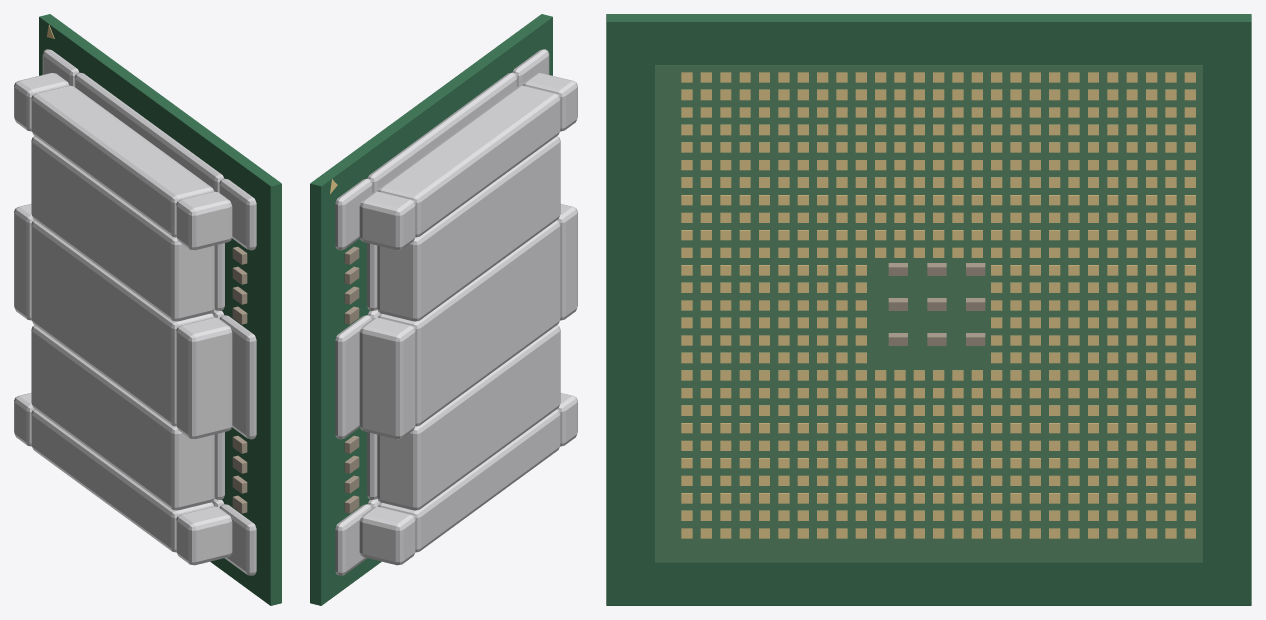
The model's file is CPU_AM5.glb.
3 renders of one model, left to right at view 1: azimuth 30°, elevation 25°; view 2: azimuth 150°, elevation 25°; view 3: azimuth 270°, elevation 25°, orthographic. The views are drawn at different scales.
Visible parts, largest first — view 1: CPU_AM5_IHS, CPU_AM5_Substrate; view 2: CPU_AM5_IHS, CPU_AM5_Substrate; view 3: CPU_AM5_Pads, CPU_AM5_Substrate.
Boxes of the visible parts, x1,y1,x2,y2 form: CPU_AM5_IHS: [14, 49, 256, 575]; CPU_AM5_Substrate: [39, 14, 281, 605]; CPU_AM5_IHS: [335, 49, 577, 575]; CPU_AM5_Substrate: [310, 14, 552, 605]; CPU_AM5_Pads: [655, 65, 1202, 562]; CPU_AM5_Substrate: [606, 14, 1251, 605].
Size of the model in its own units: 0.0071 by 0.04 by 0.04.
